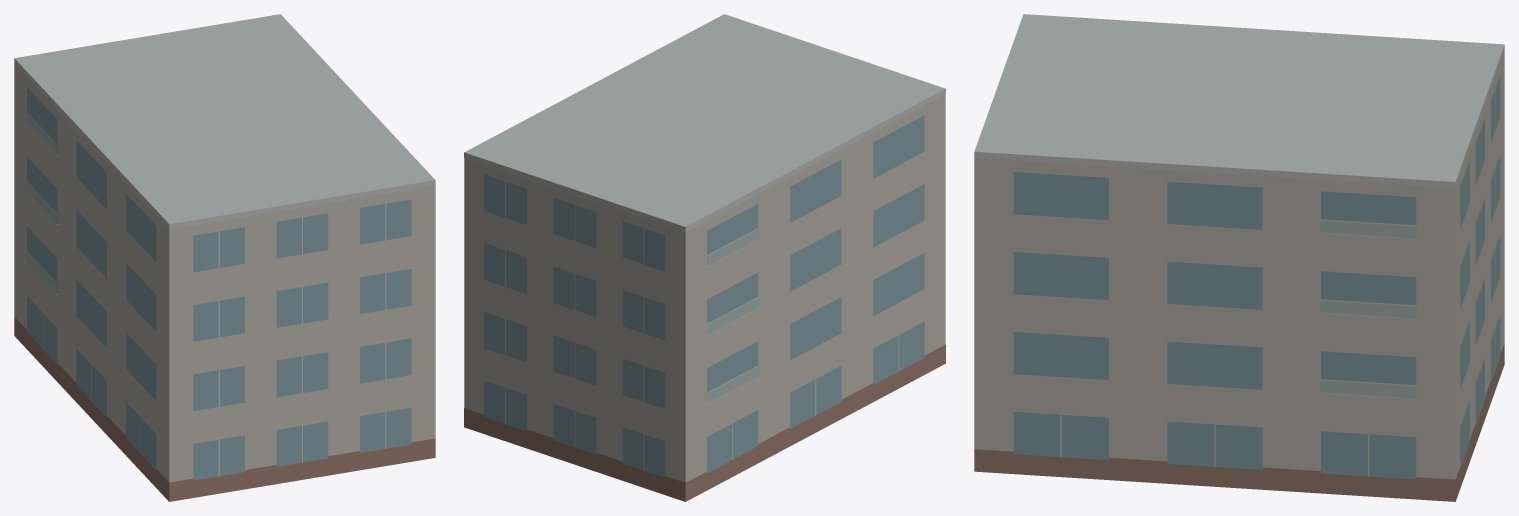
Rendered from survey-upis-32756382.glb.
3 views of the same model, side by side, from view 1: azimuth 30°, elevation 25°; view 2: azimuth 150°, elevation 25°; view 3: azimuth 270°, elevation 25° (orthographic). The views are drawn at different scales.
Visible parts, largest first — view 1: survey-upis-32756382.tmp; view 2: survey-upis-32756382.tmp; view 3: survey-upis-32756382.tmp.
Part boxes in pixels (x1,y1,x2,y2): survey-upis-32756382.tmp: [14, 14, 435, 501]; survey-upis-32756382.tmp: [464, 14, 945, 501]; survey-upis-32756382.tmp: [974, 14, 1504, 501].
Bounding box in the file's own units: 13.75 × 12.2 × 18.34.
